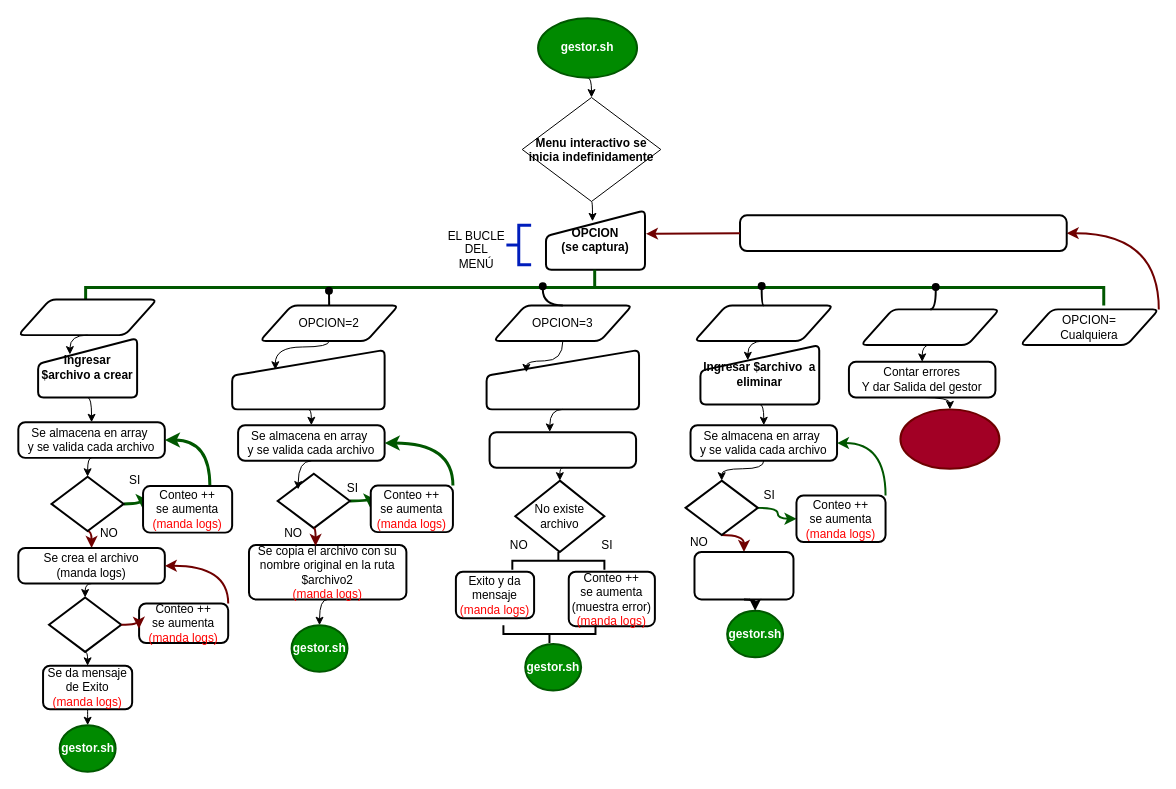
The diagram is 1176 pixels wide and 789 high, and some of its shapes have lost their labels. Here are the shapes that lost their labels. From the top down, the centre of each, then its label:
the point at 903,232: OPCION INVALIDA vuelve a seleccionar
the point at 87,317: OPCION=1
the point at 763,323: OPCION=4
the point at 929,327: OPCION=5
the point at 308,379: Ingresar $archivo a copiar y $archivo2 ubicacion
the point at 562,379: Ingresar $archivo y nuevos $permisos
the point at 562,449: CAMBIA LOS PERMISOS
the point at 949,438: EXIT 0
the point at 87,503: Error find
the point at 313,500: Error cp
the point at 721,507: Error rm -i
the point at 743,575: Se elimina correctamente (manda logs)
the point at 85,624: Error touch
